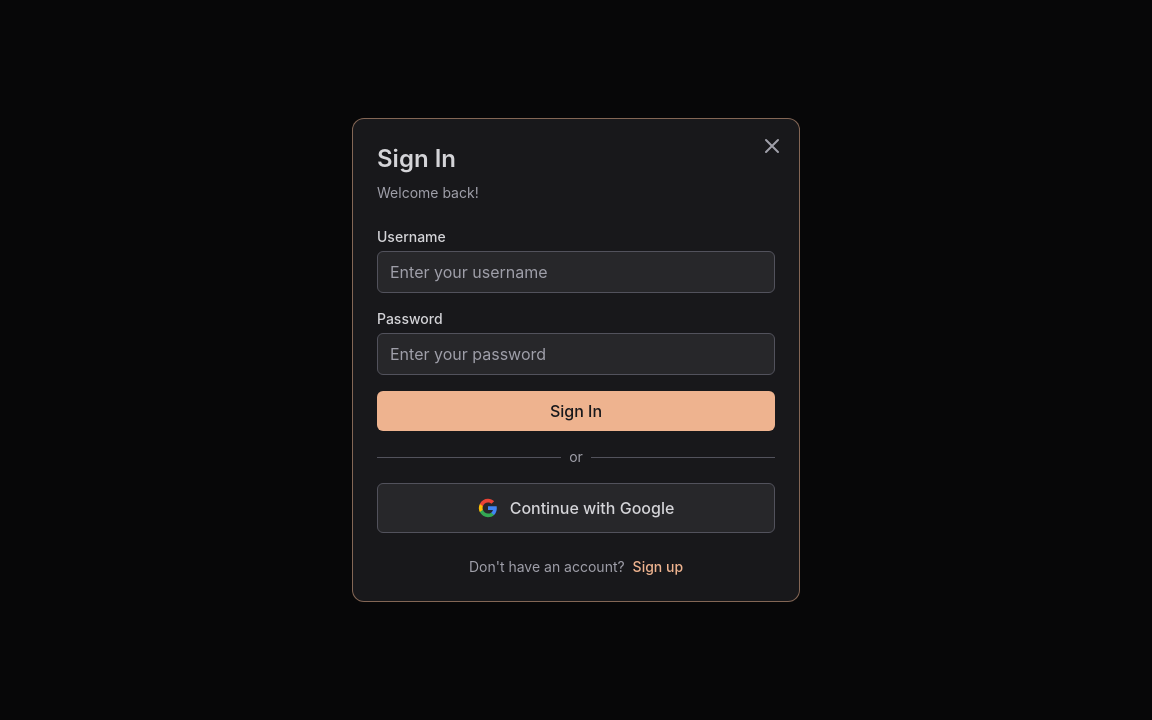
AuthModal › shows validation errors for invalid registration input
Click the button "Sign up" at (658, 567), box [633,557,683,577]
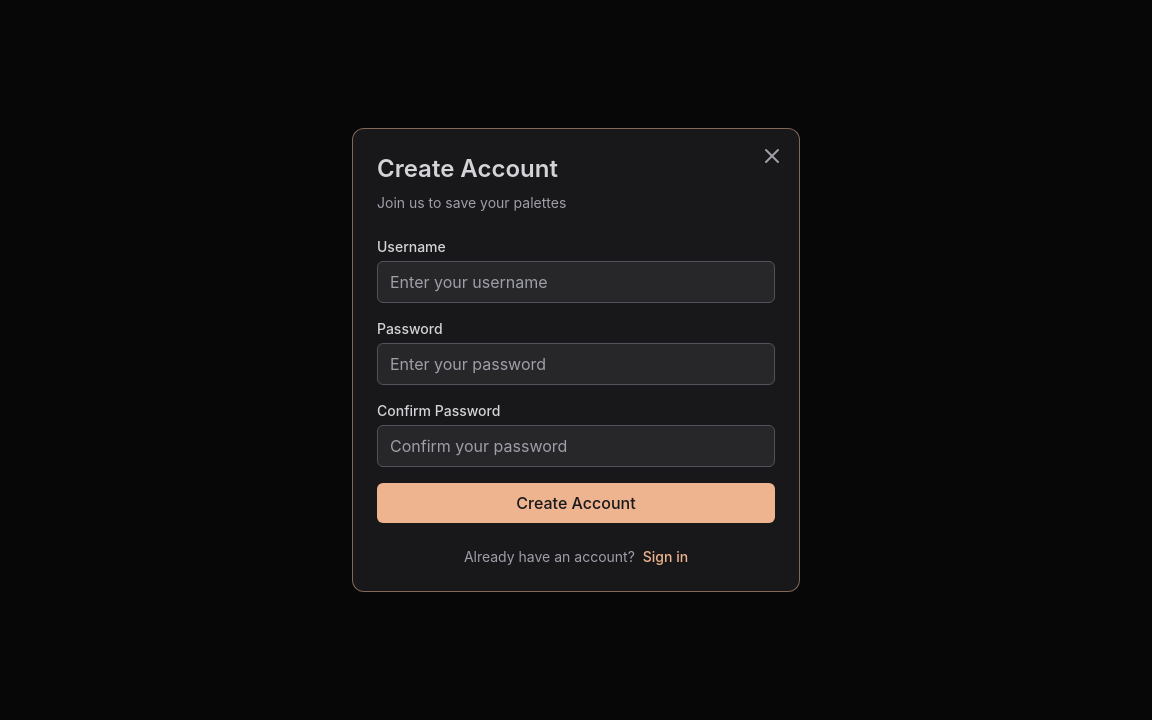
Type "ab" into the field labelled "Username" at (576, 282), box [377,261,775,303]
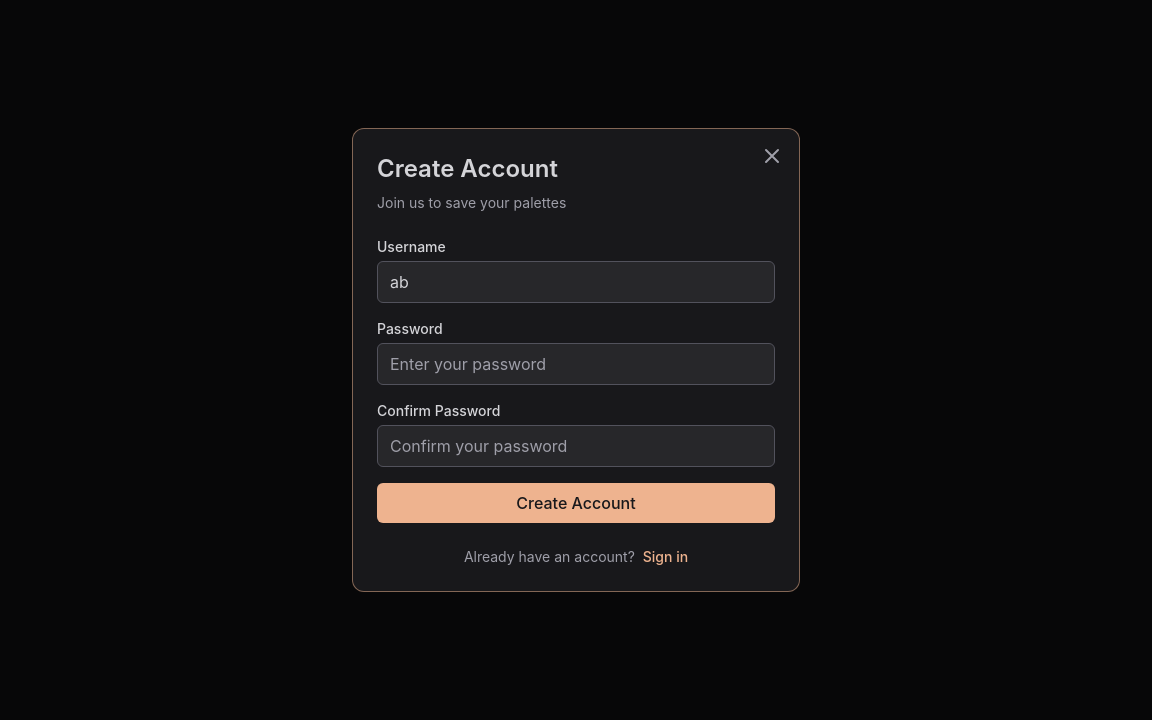
Type "short" into the password field labelled "Password" at (576, 364), box [377,343,775,385]
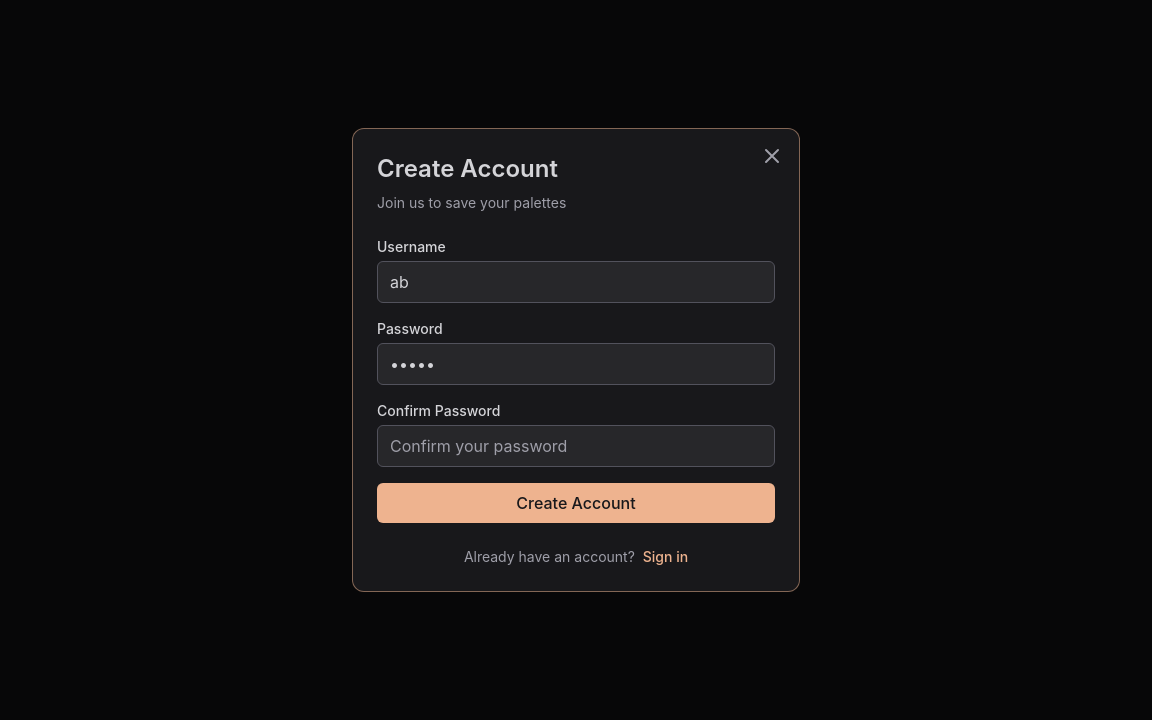
Type "different" into the password field labelled "Confirm Password" at (576, 446), box [377,425,775,467]
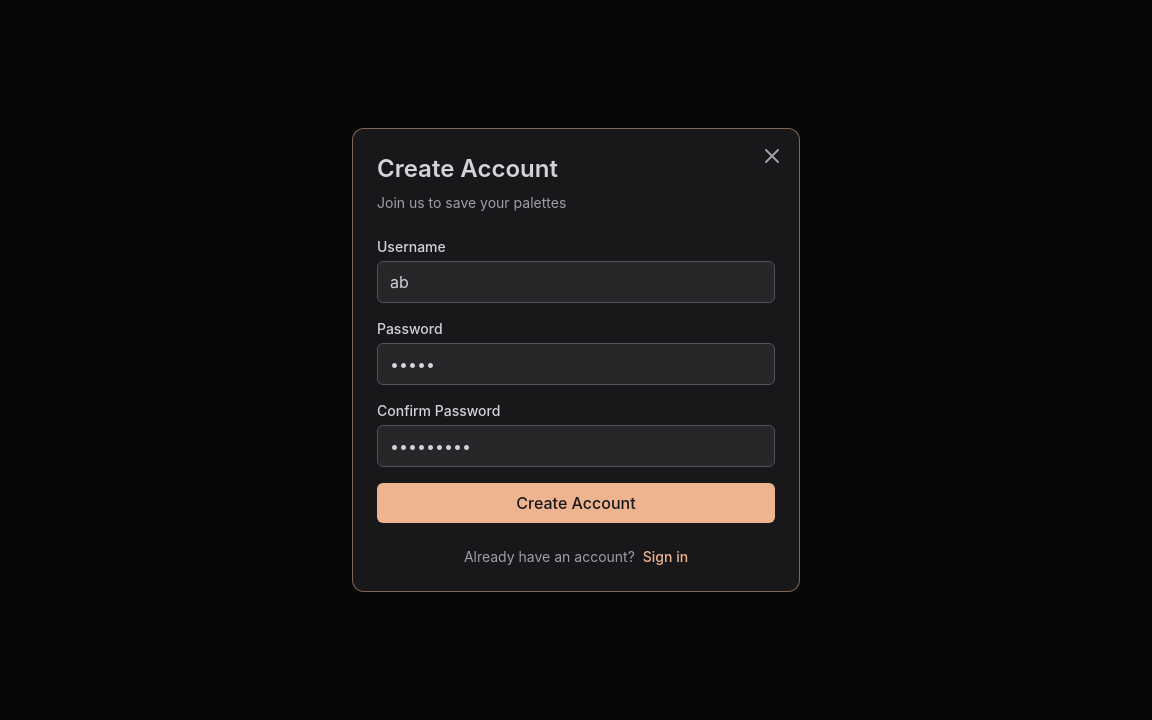
Click the button "Create Account" at (576, 503), box [377,483,775,523]
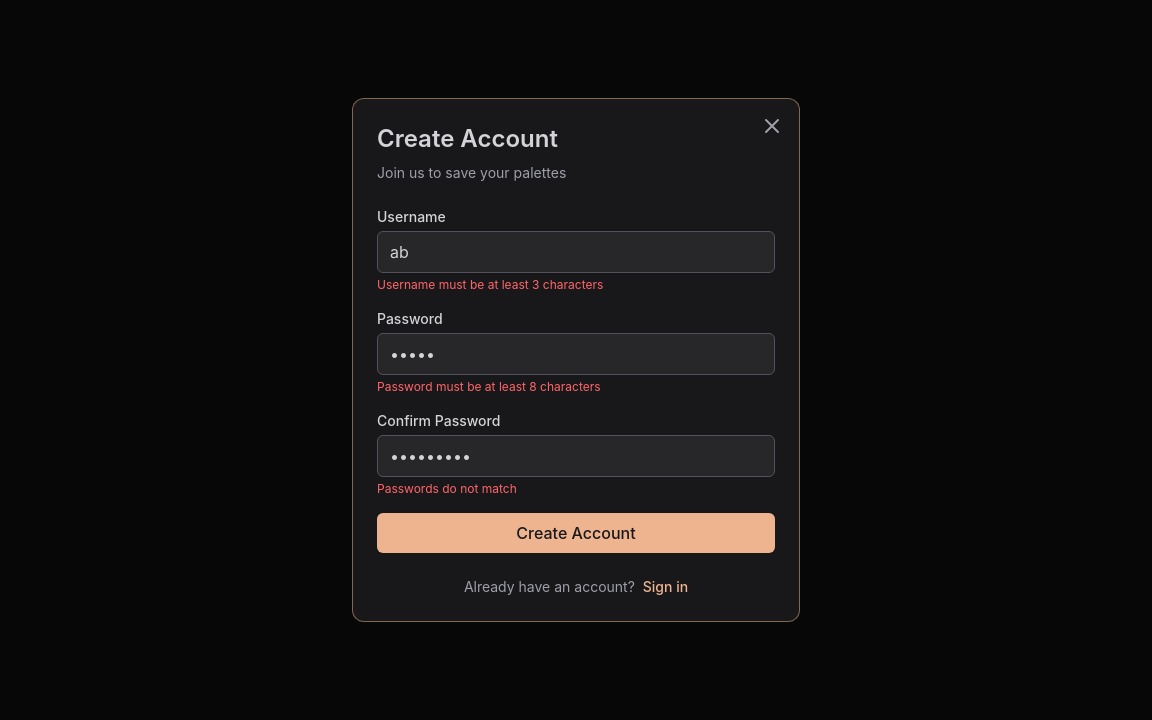
Expected: the text "Username must be at least 3 characters" is shown, [377,277,603,292]
Expected: the text "Password must be at least 8 characters" is shown, [377,379,601,394]
Expected: the text "Passwords do not match" is shown, [377,481,517,496]
